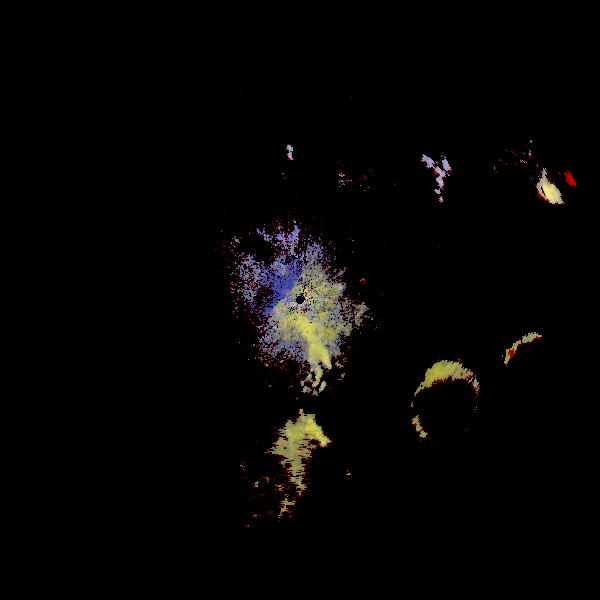roost: (394, 348, 520, 474), (377, 146, 485, 254), (489, 320, 588, 419), (247, 309, 337, 399)
